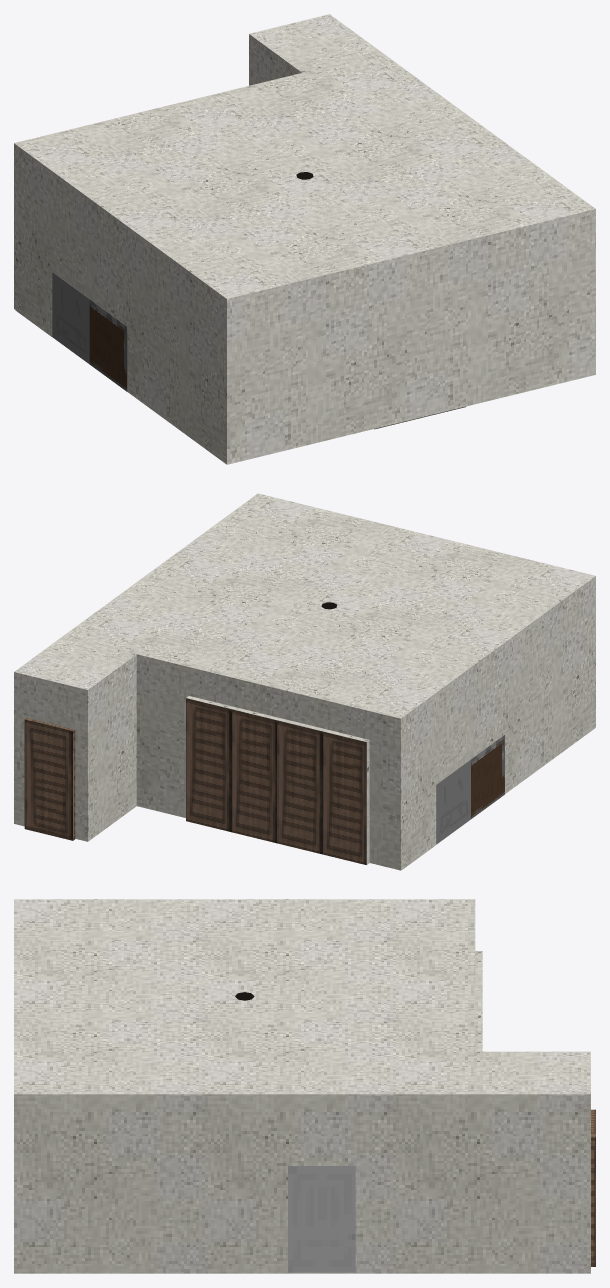
File: roomrough.fbx
3 views of the same model, one above another, from view 1: azimuth 30°, elevation 25°; view 2: azimuth 150°, elevation 25°; view 3: azimuth 270°, elevation 25° (orthographic). The views are drawn at different scales.
Parts seen in each view (by area): view 1: room rough, kitchen set; view 2: room rough, kitchen set; view 3: room rough, fridgefreezer.
Boxes of the visible parts, x1,y1,x2,y2 form: room rough: [14, 14, 595, 464]; kitchen set: [52, 272, 127, 391]; room rough: [14, 493, 595, 870]; kitchen set: [436, 735, 504, 844]; room rough: [14, 899, 595, 1273]; fridgefreezer: [288, 1166, 355, 1272].
Size of the model in its own units: 2002 by 887 by 2522.
